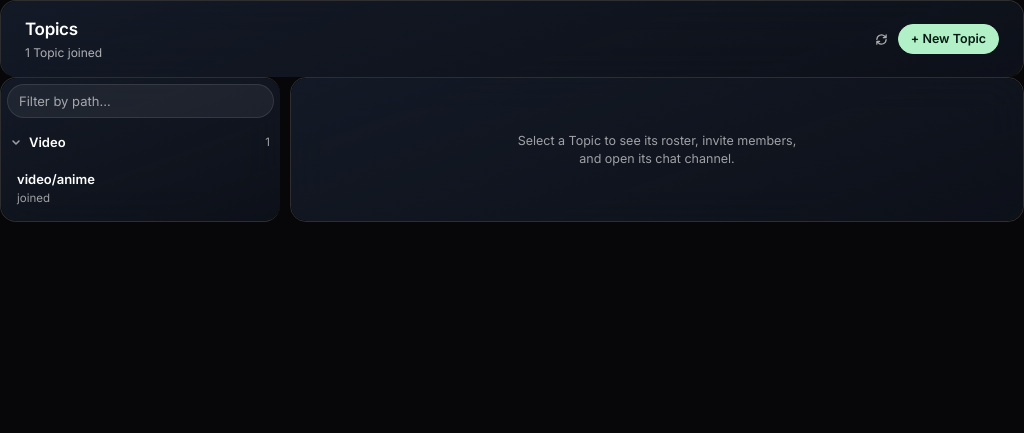
Test: QURATOR-304 — dormant roster members are shown dimmed, never dropped › a dormant member keeps their row, carries .dormant and the "silent 30d+" cue; self never dims
Click the button with class "topic-row": (56, 179) [7,161,274,215]
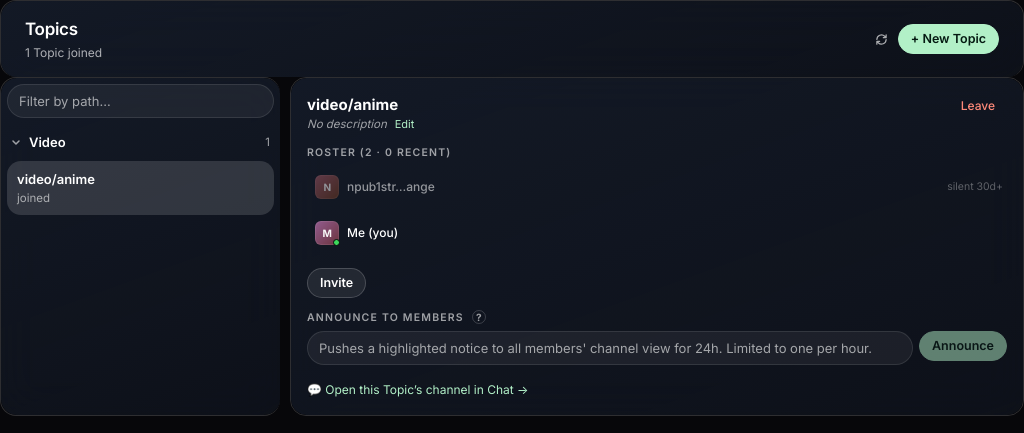
expect the element with class "roster-row" showing "N npub1str…ange silent 30d+" is shown: met, box [307,167,1007,207]
expect the list item with class "roster-item" shows "silent 30d+": met, box [947,180,1003,193]
expect the element with class "roster-row" showing "M Me (you)" is shown: met, box [315,221,398,246]
